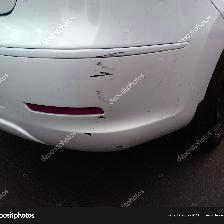bumper_scratch: (82, 63, 164, 138)
